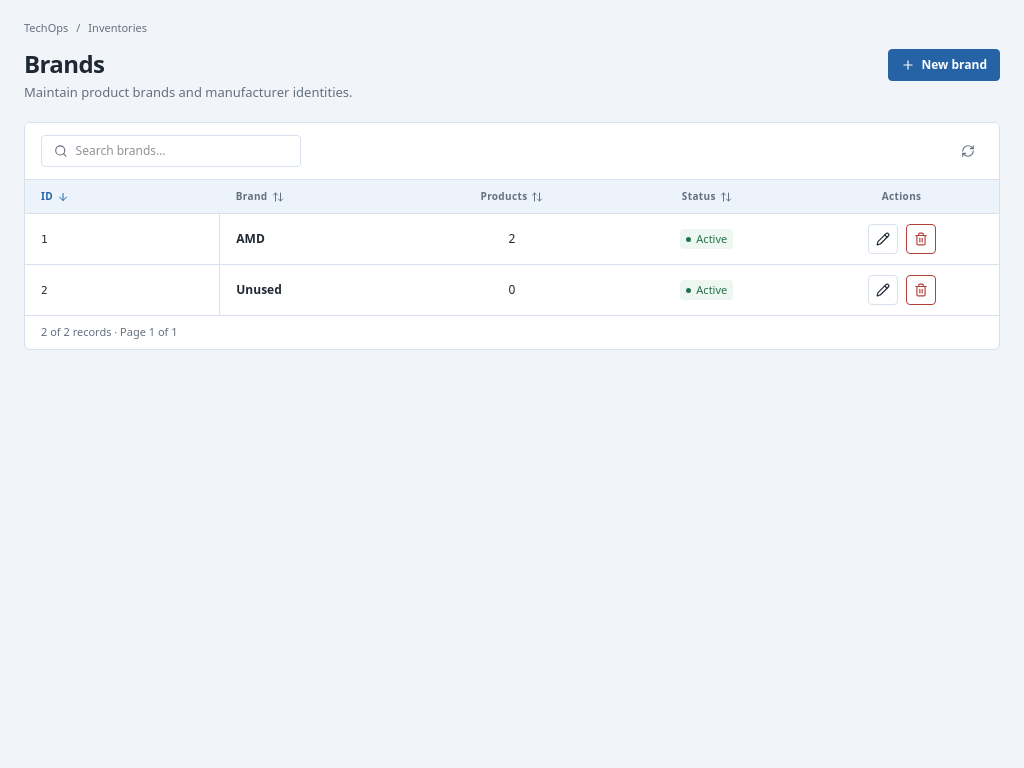
blocks deletion of used brands and confirms unused brand deletion
Click the button named "Delete" in the row of "AMD": click(921, 239) x1=906 y1=224 x2=936 y2=254
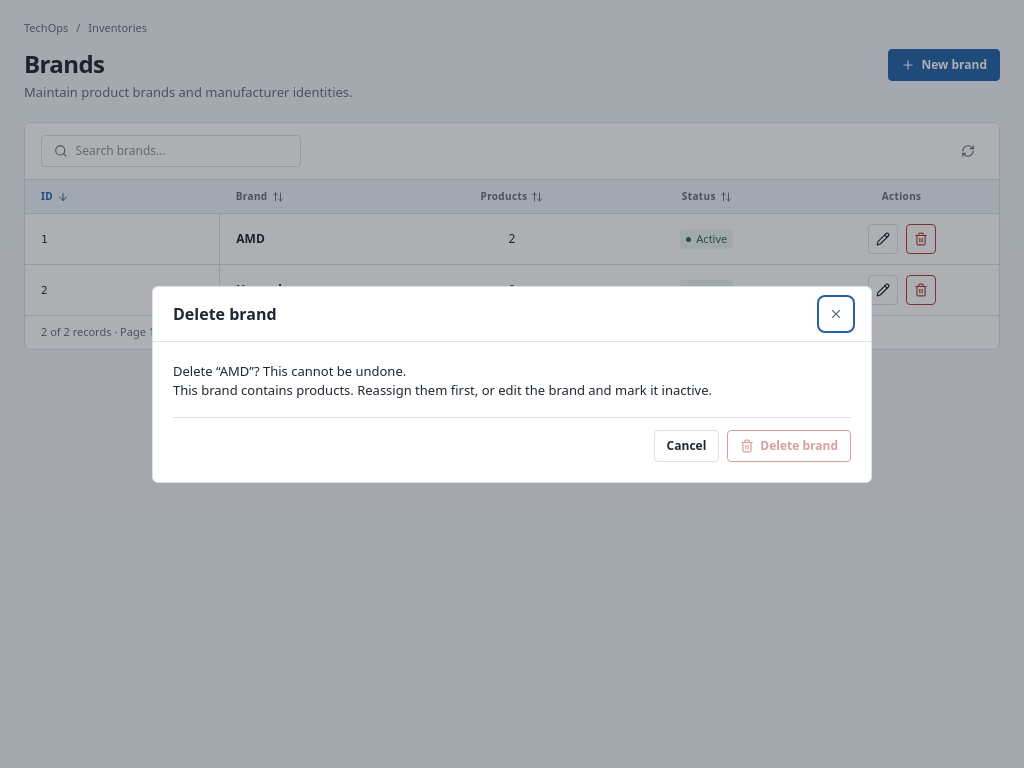
Now the button "Delete brand" is disabled, box x1=727 y1=430 x2=851 y2=462
Click the button "Cancel": click(686, 446) x1=654 y1=430 x2=719 y2=462
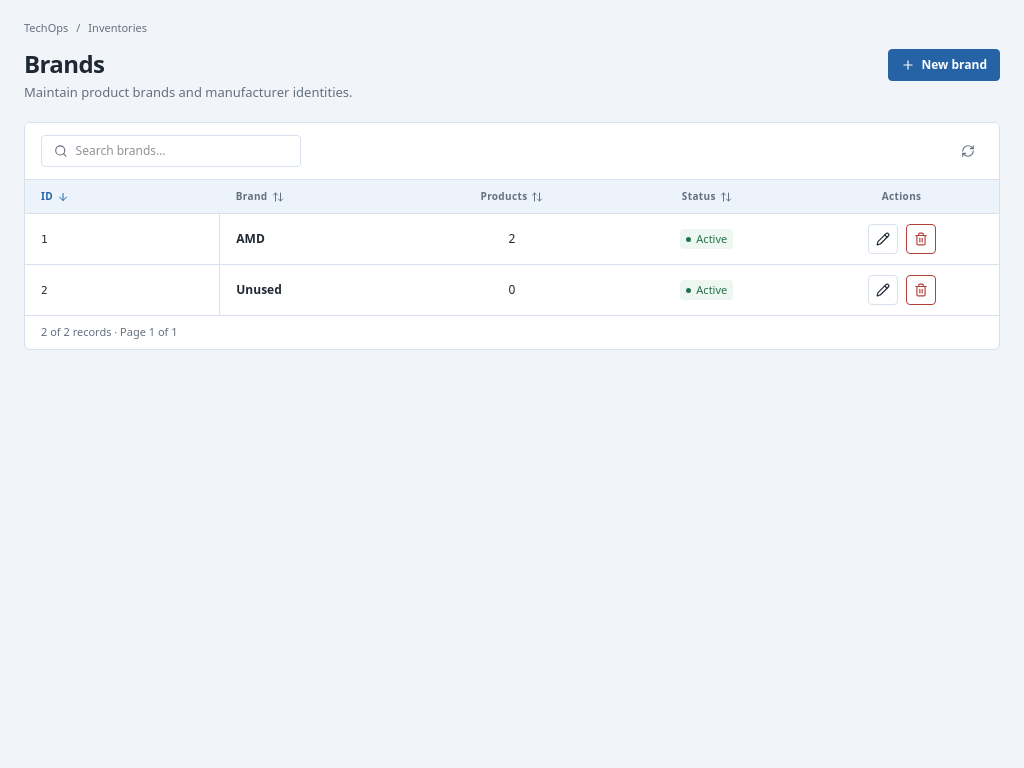
Click the button named "Delete" in the row of "Unused": click(921, 290) x1=906 y1=275 x2=936 y2=305
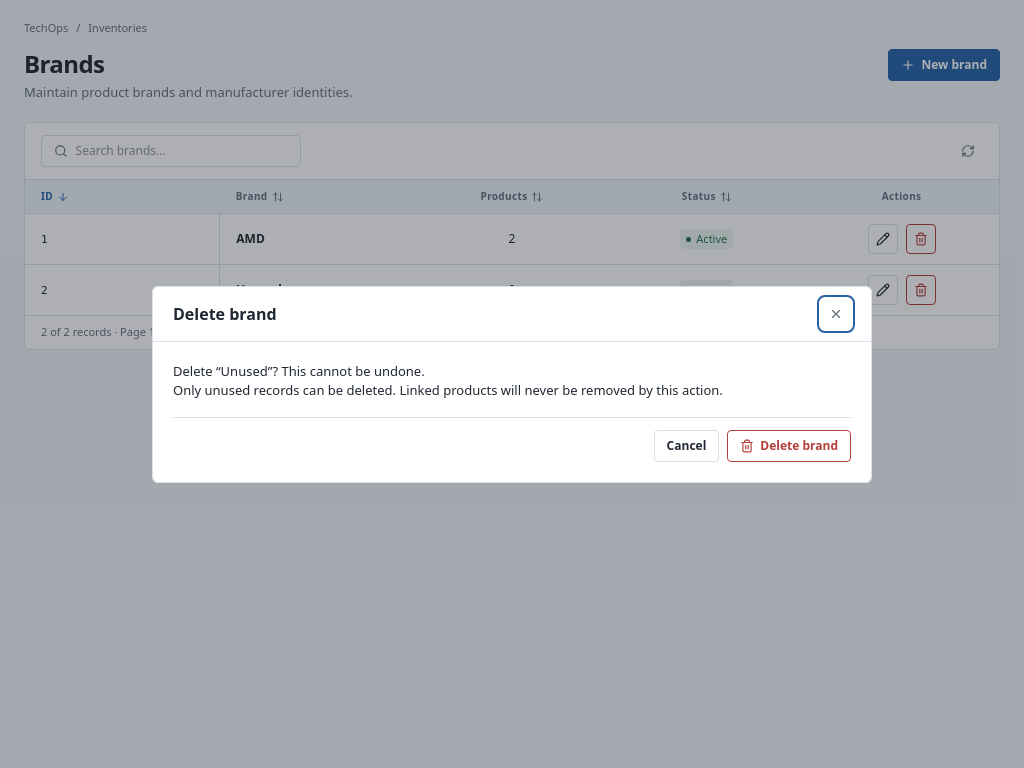
Click the button "Delete brand": click(789, 446) x1=727 y1=430 x2=851 y2=462
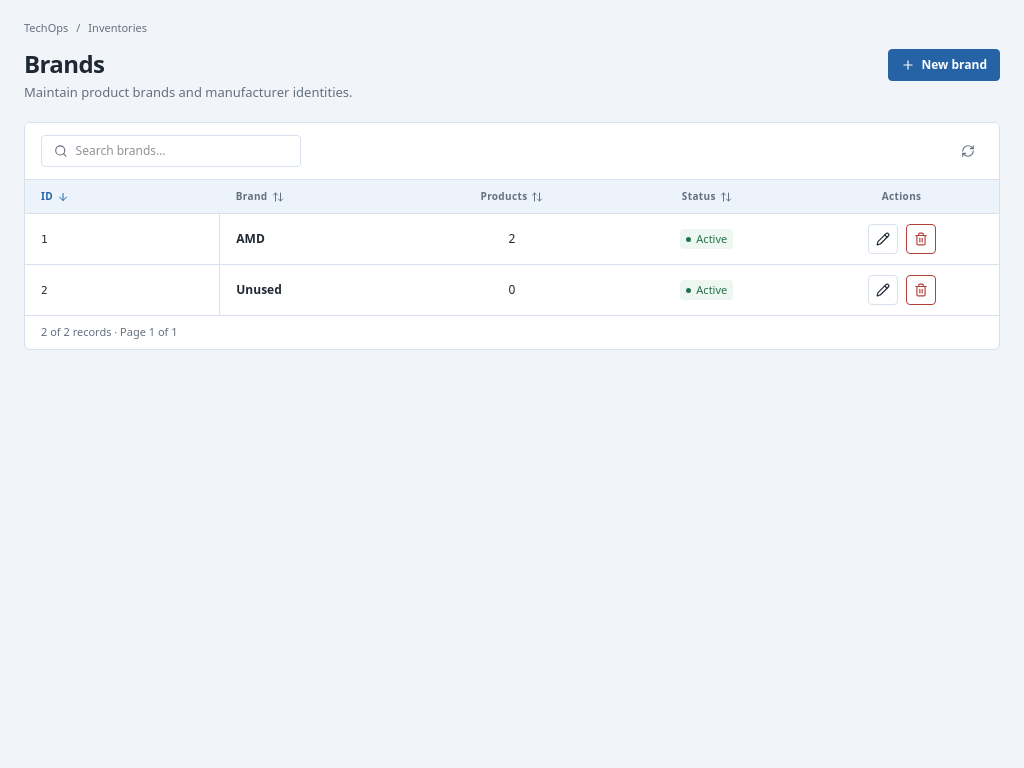
Now the dialog is gone
